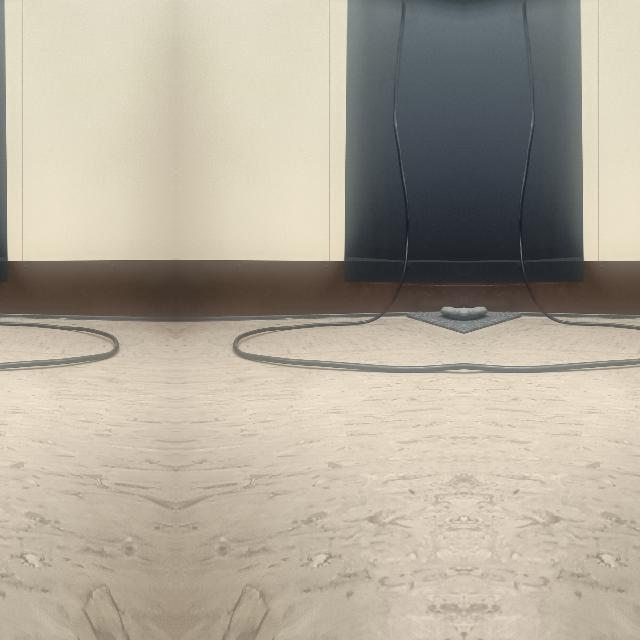obstacle: (224, 327, 463, 377), (463, 327, 640, 377), (0, 327, 125, 377)
